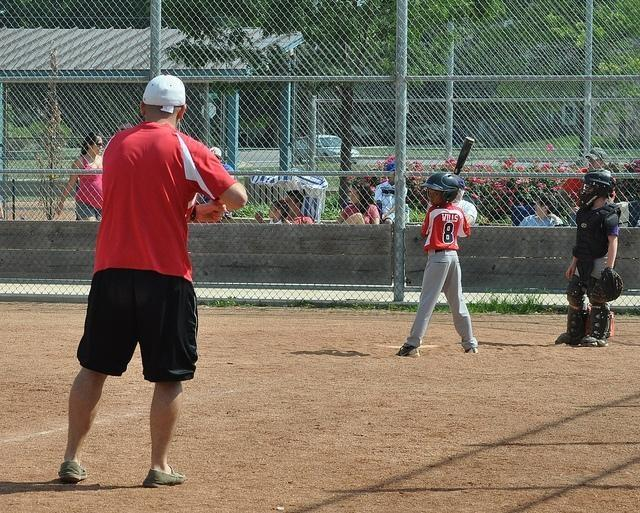car: (294, 133, 361, 165)
